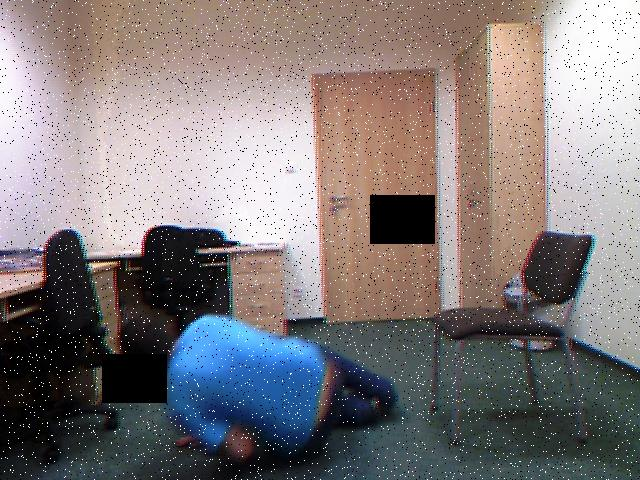fall: (112, 302, 414, 480)
